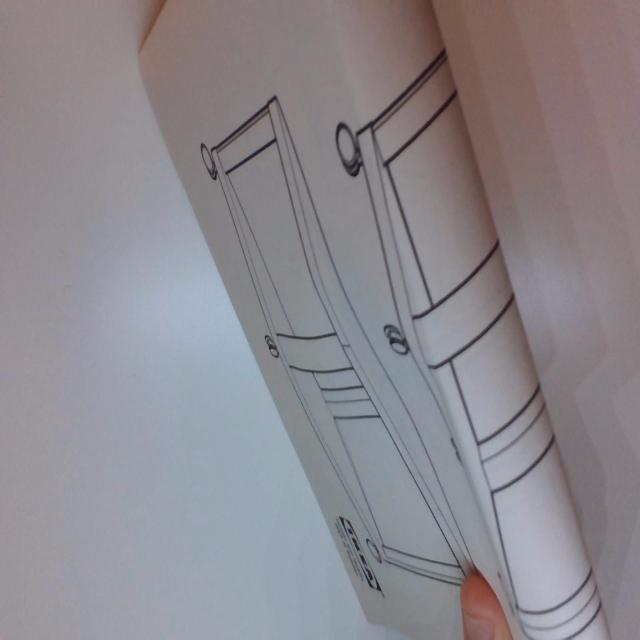Paper: (135, 0, 608, 640)
